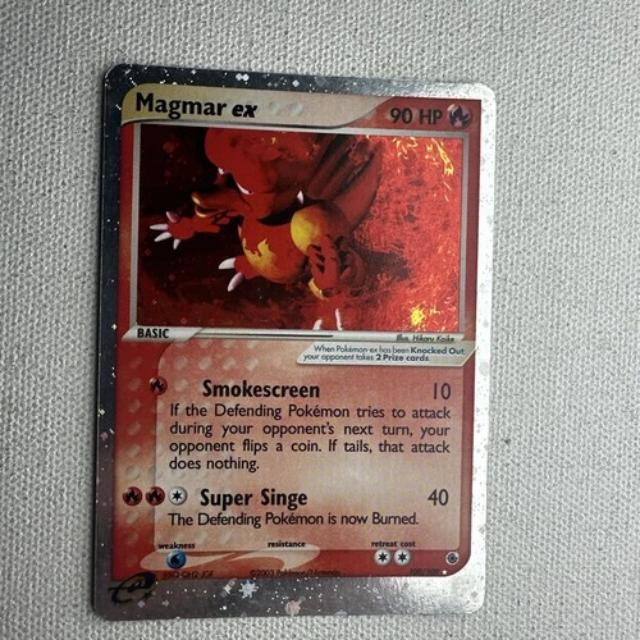Card: (83, 56, 502, 628)
Name: (131, 85, 266, 126)
